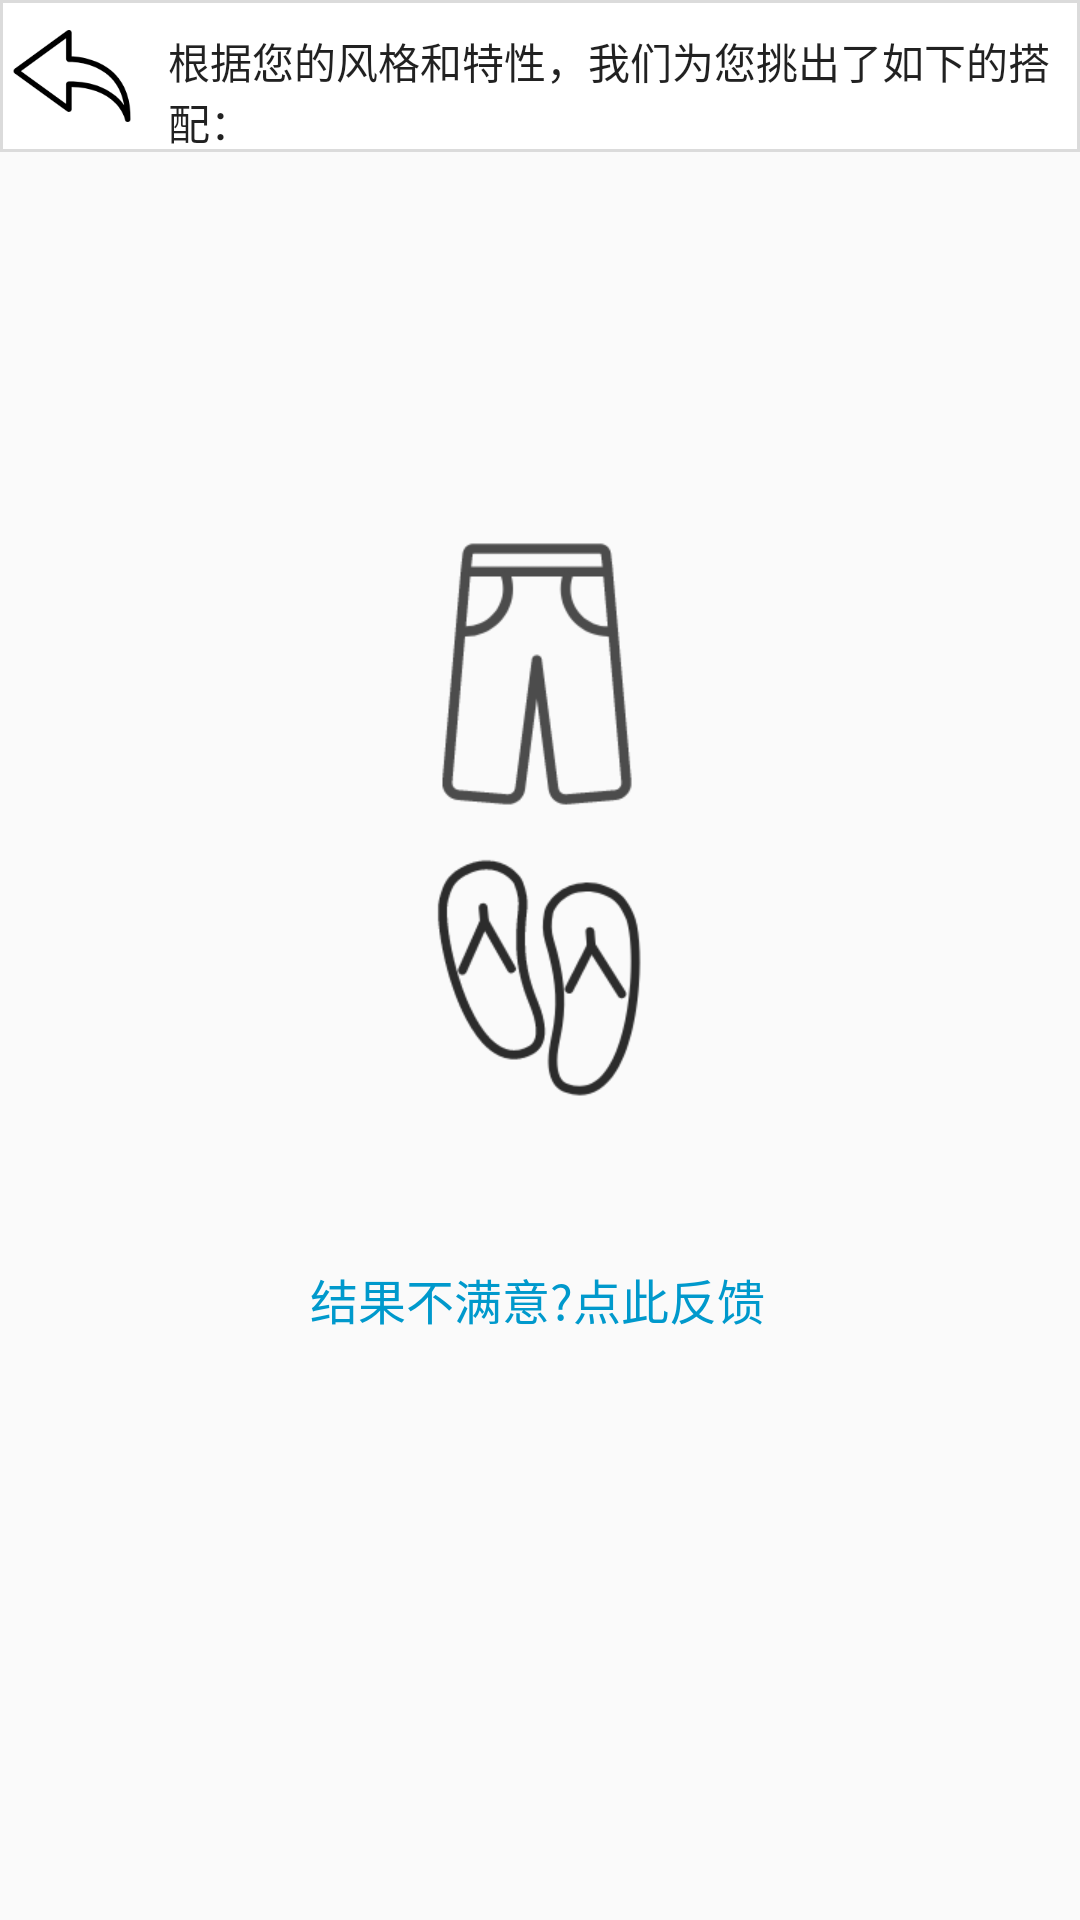

Point at icon controls on the screen. Image size 1080x1920, points as [x,y].
come back: [72,76]
pant: [537,674]
shoes: [539,978]
